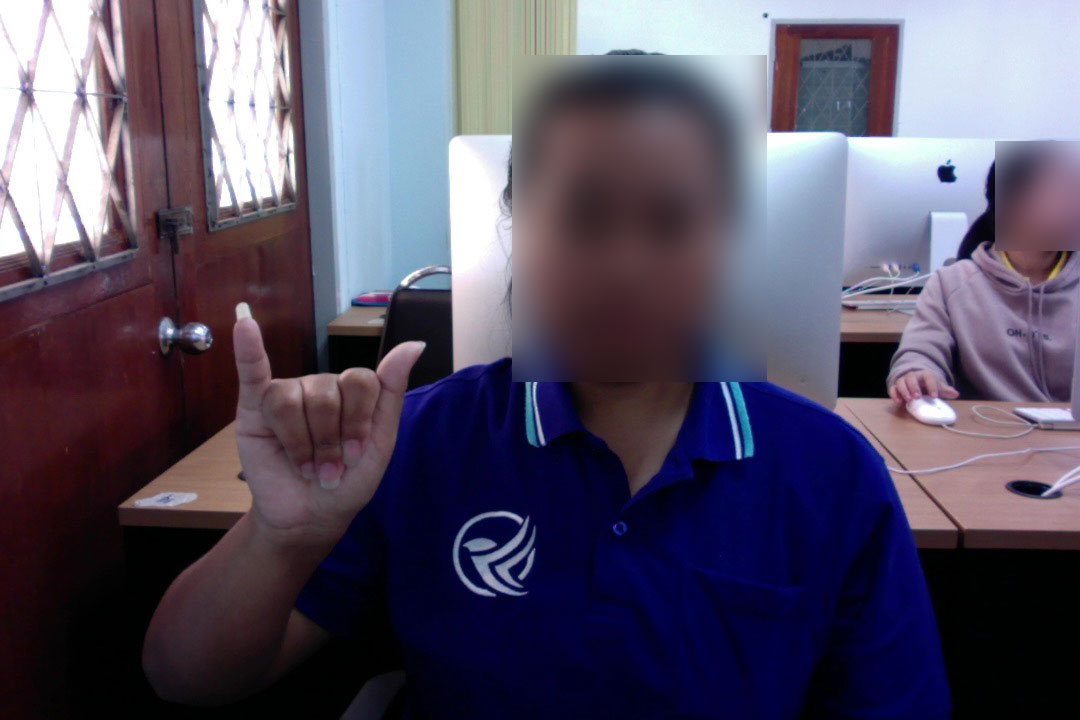yor: (222, 305, 432, 565)
